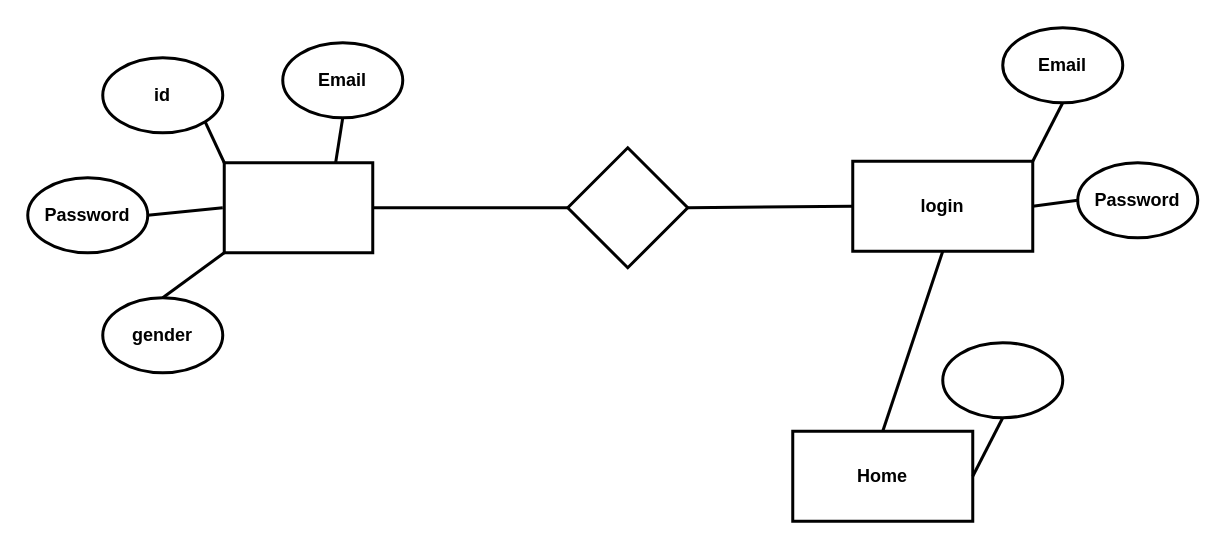
Image size: 1224x548. Some labels were removed from this diagram. Here are the shapes that lost their labels. From the top down, the centre of each, then its label:
the point at 298,207: user
the point at 627,207: signup
the point at 1002,379: All Social App
